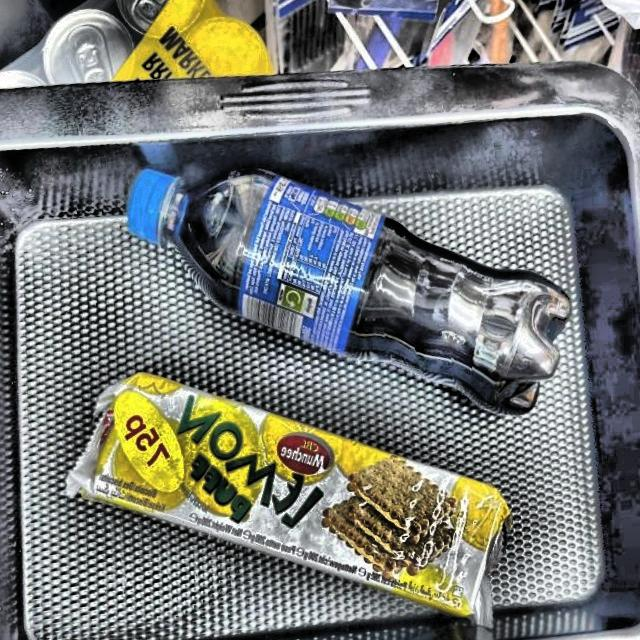lemon puff: (73, 372, 513, 627)
pepsi-bottle: (126, 159, 577, 415)
